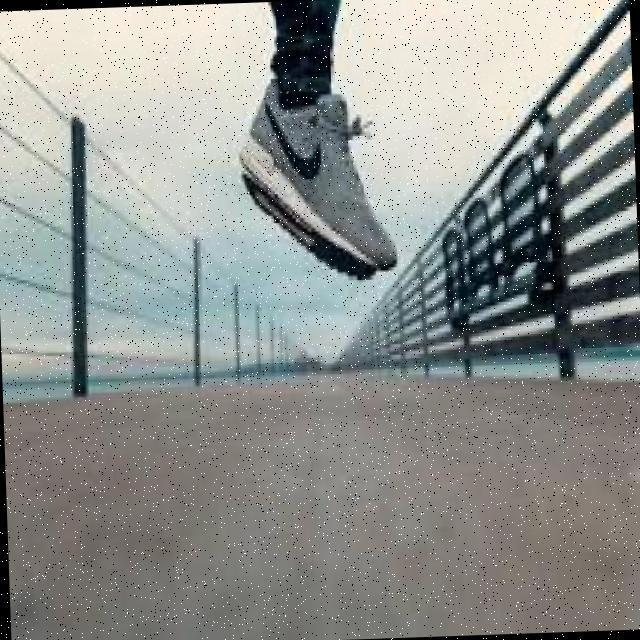Nike: (262, 87, 328, 177)
